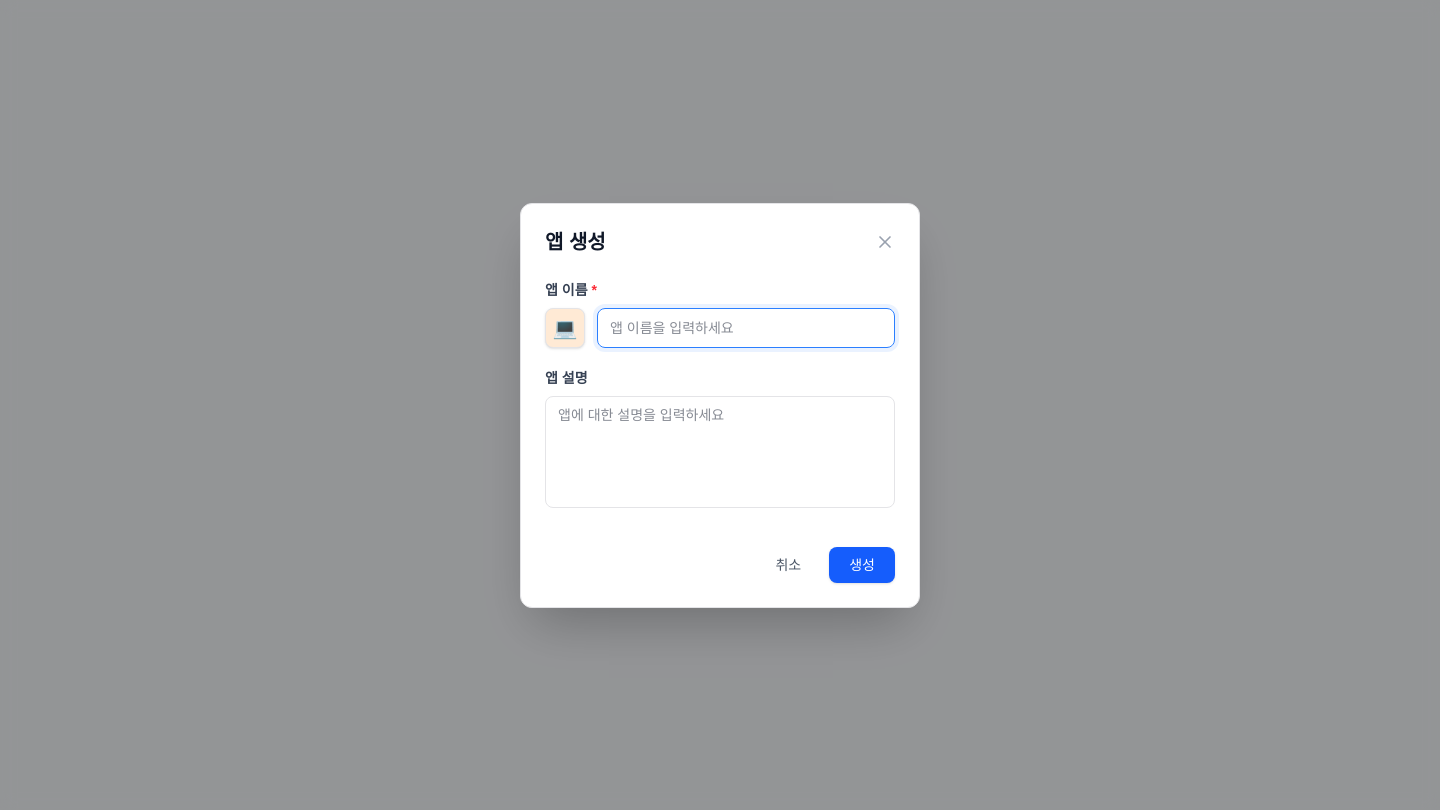
Test: CreateAppModal 권한 신청 연결 › App 생성 403 차단 시 실패 토스트 대신 권한 신청 UI를 표시한다 (ORG-TC-E009)
Step 1. Type "온보딩 봇" into the field with placeholder "앱 이름을 입력하세요" → (746, 328), box x1=597 y1=308 x2=895 y2=348
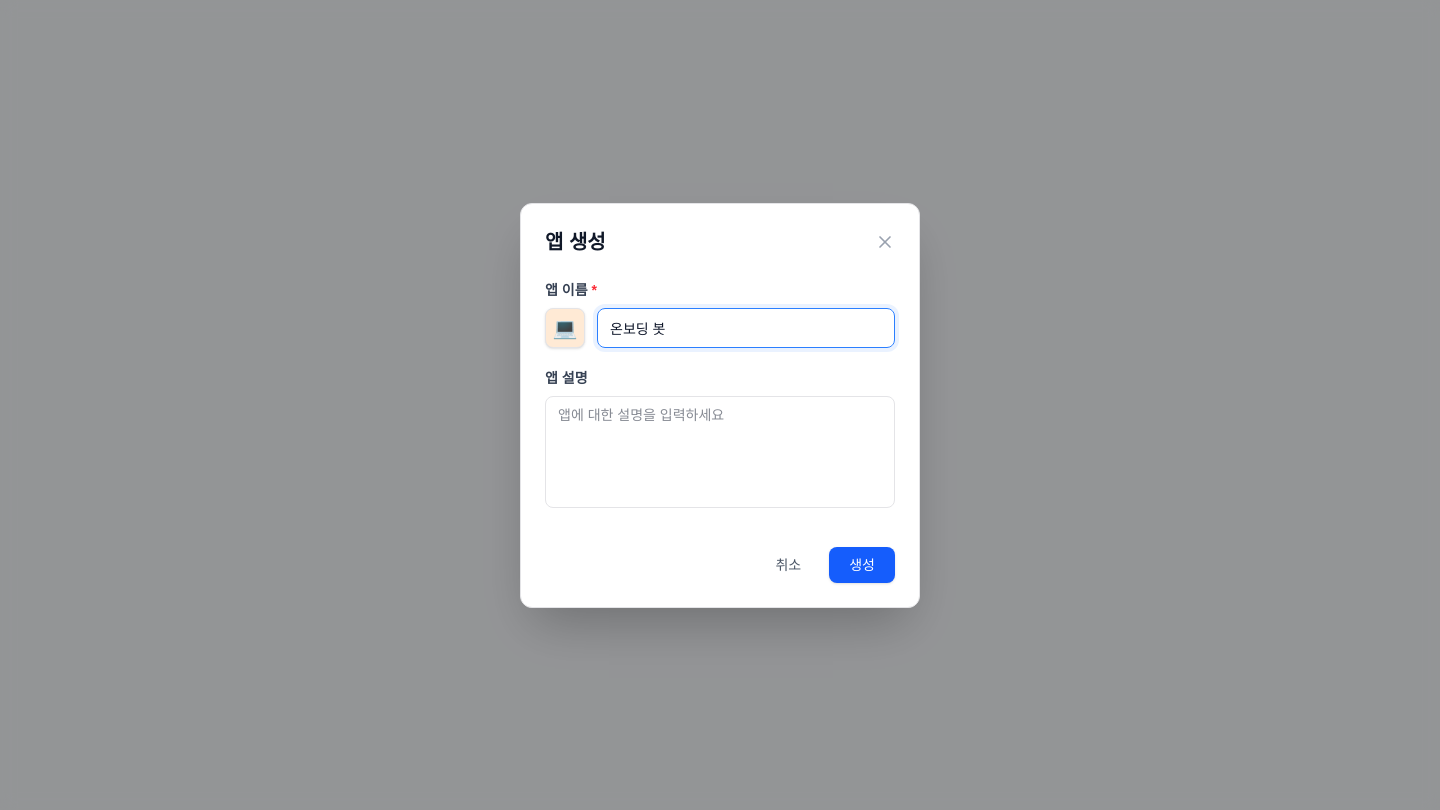
Step 2. Click the button "생성" → click(862, 564), box x1=829 y1=546 x2=895 y2=582
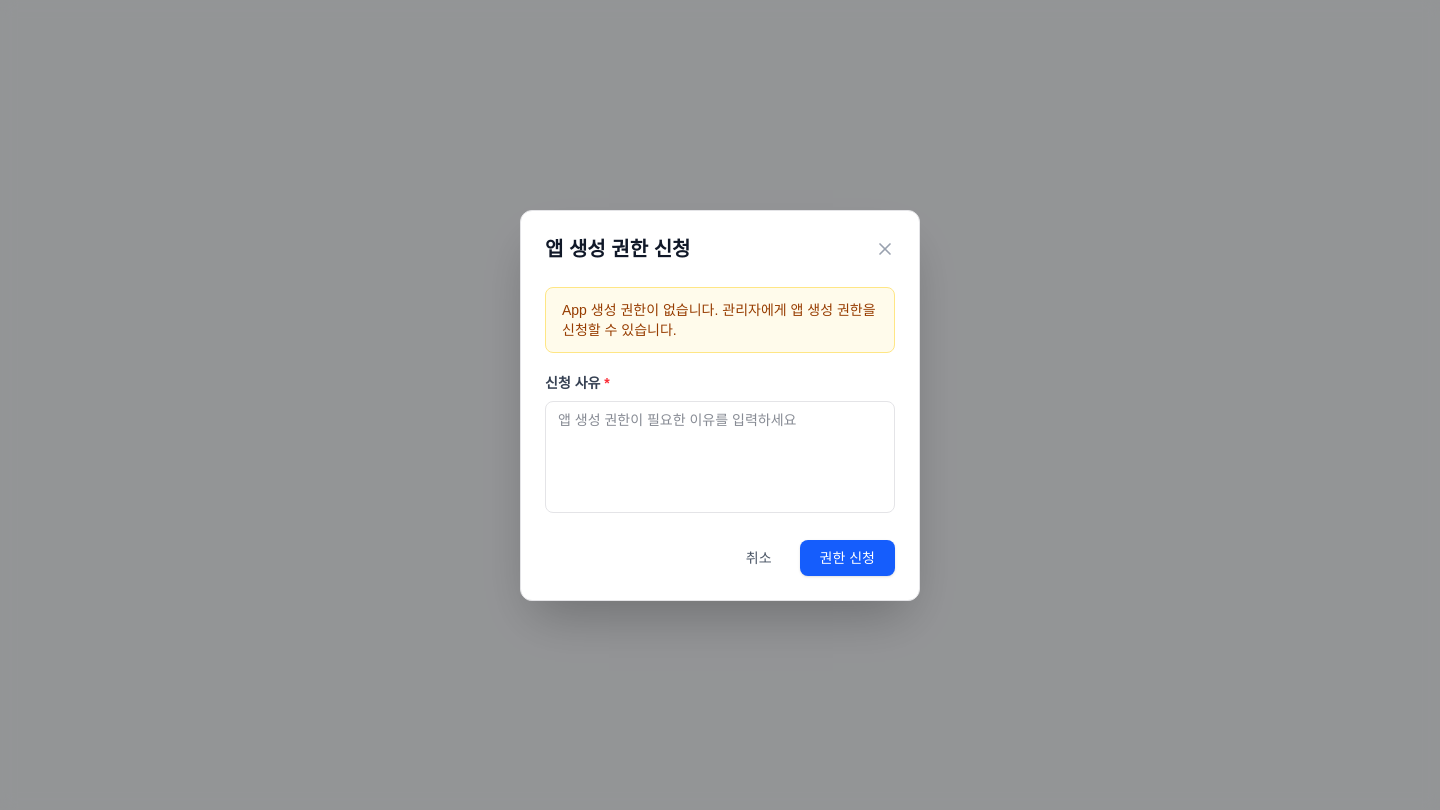
expect the heading "앱 생성 권한 신청" is shown: met, box x1=545 y1=234 x2=690 y2=262
expect the text "App 생성 권한이 없습니다. 관리자에게 앱 생성 권한을 신청할 수 있습니다." is shown: met, box x1=545 y1=286 x2=895 y2=352
expect the text box labelled "신청 사유 *" is shown: met, box x1=545 y1=400 x2=895 y2=512
